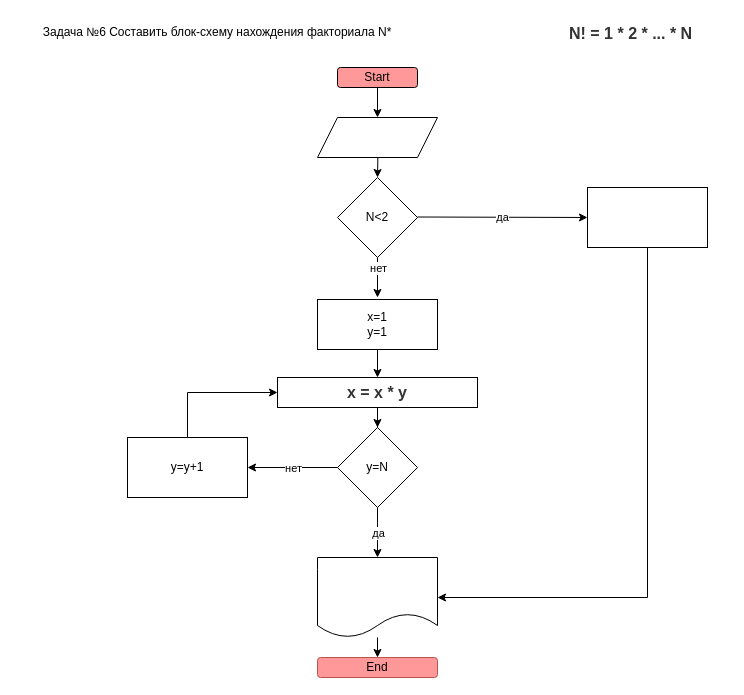
Some shapes in this 744 by 695 pixel diagram are drawn without their labels. Here are the shapes that lost their labels. From the top down, the box of each, then its label:
(316, 116, 438, 158): N=
(586, 186, 708, 248): x=1
(316, 556, 438, 638): Print x
